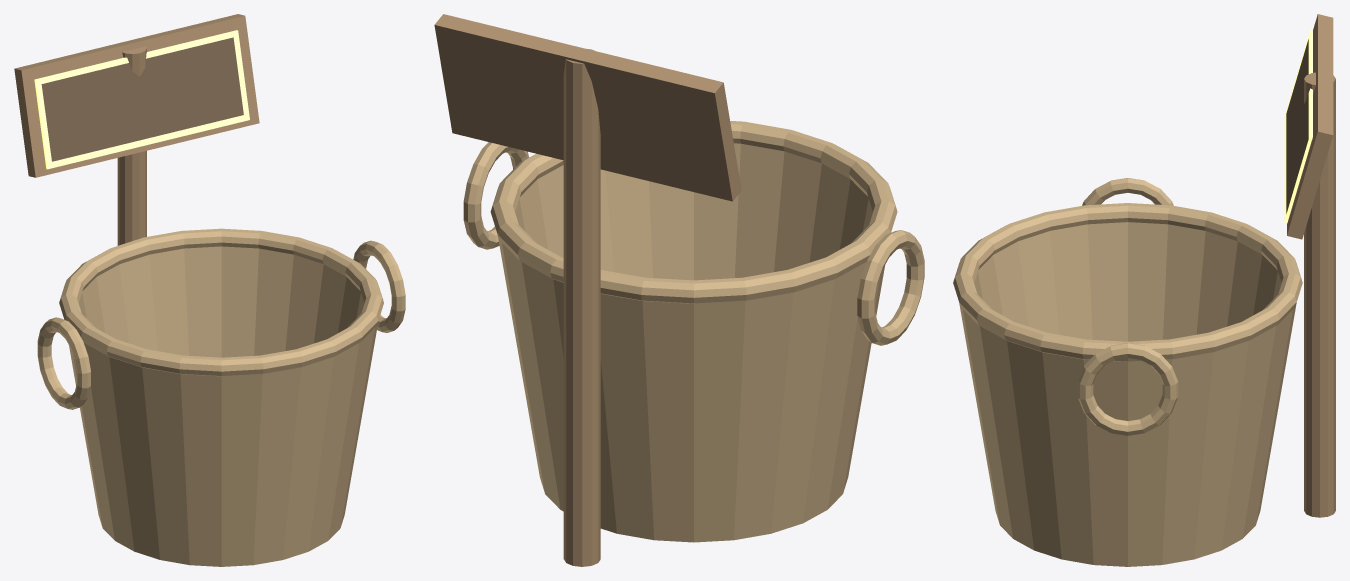
The model's file is WickerCollectionBasket.fbx.
3 renders of one model, left to right at view 1: azimuth 30°, elevation 25°; view 2: azimuth 150°, elevation 25°; view 3: azimuth 270°, elevation 25°, orthographic. The views are drawn at different scales.
Parts seen in each view (by area): view 1: Basket_Body, Basket_Score_Plate, Basket_Rim_Roll, Basket_Signboard_Wood, Basket_Score_Trim, Basket_Signpost_Post, Basket_Handle_L, Basket_Handle_R; view 2: Basket_Body, Basket_Signboard_Wood, Basket_Signpost_Post, Basket_Rim_Roll, Basket_Handle_L, Basket_Handle_R; view 3: Basket_Body, Basket_Rim_Roll, Basket_Signpost_Post, Basket_Signboard_Wood, Basket_Handle_R, Basket_Score_Plate, Basket_Handle_L, Basket_Score_Trim.
Boxes of the visible parts, left/top/right/bottom form: Basket_Body: left=69, top=246, right=378, bottom=566; Basket_Score_Plate: left=41, top=37, right=243, bottom=161; Basket_Rim_Roll: left=59, top=228, right=383, bottom=376; Basket_Signboard_Wood: left=14, top=14, right=259, bottom=177; Basket_Score_Trim: left=34, top=30, right=249, bottom=169; Basket_Signpost_Post: left=117, top=46, right=146, bottom=245; Basket_Handle_L: left=37, top=317, right=90, bottom=409; Basket_Handle_R: left=353, top=240, right=405, bottom=332; Basket_Body: left=497, top=143, right=884, bottom=542; Basket_Signboard_Wood: left=434, top=14, right=741, bottom=201; Basket_Signpost_Post: left=563, top=48, right=600, bottom=566; Basket_Rim_Roll: left=490, top=121, right=897, bottom=303; Basket_Handle_L: left=857, top=230, right=924, bottom=345; Basket_Handle_R: left=463, top=142, right=528, bottom=249; Basket_Body: left=959, top=222, right=1296, bottom=566; Basket_Rim_Roll: left=953, top=203, right=1302, bottom=361; Basket_Signpost_Post: left=1304, top=72, right=1335, bottom=517; Basket_Signboard_Wood: left=1287, top=14, right=1333, bottom=239; Basket_Handle_R: left=1077, top=343, right=1178, bottom=435; Basket_Score_Plate: left=1286, top=39, right=1312, bottom=215; Basket_Handle_L: left=1082, top=178, right=1173, bottom=205; Basket_Score_Trim: left=1284, top=30, right=1312, bottom=223.
Size of the model in its own units: 0.614 by 0.73 by 0.578.
